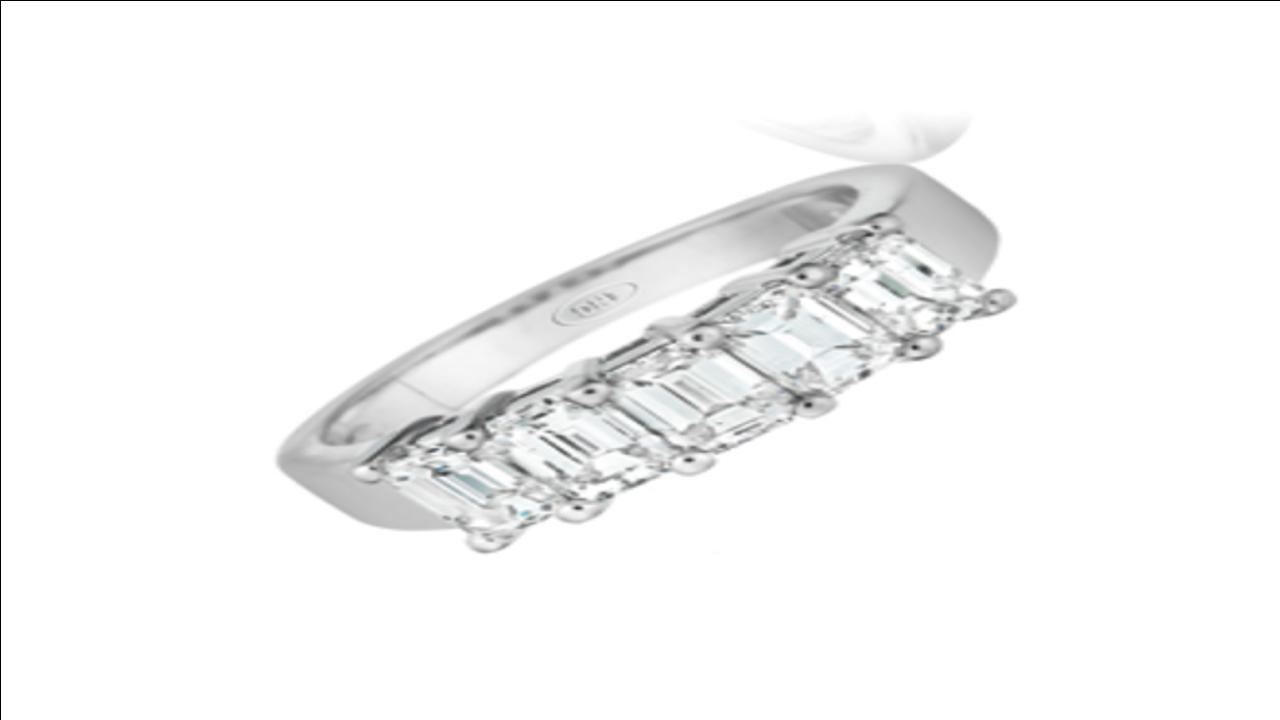ring: (271, 158, 1025, 554)
